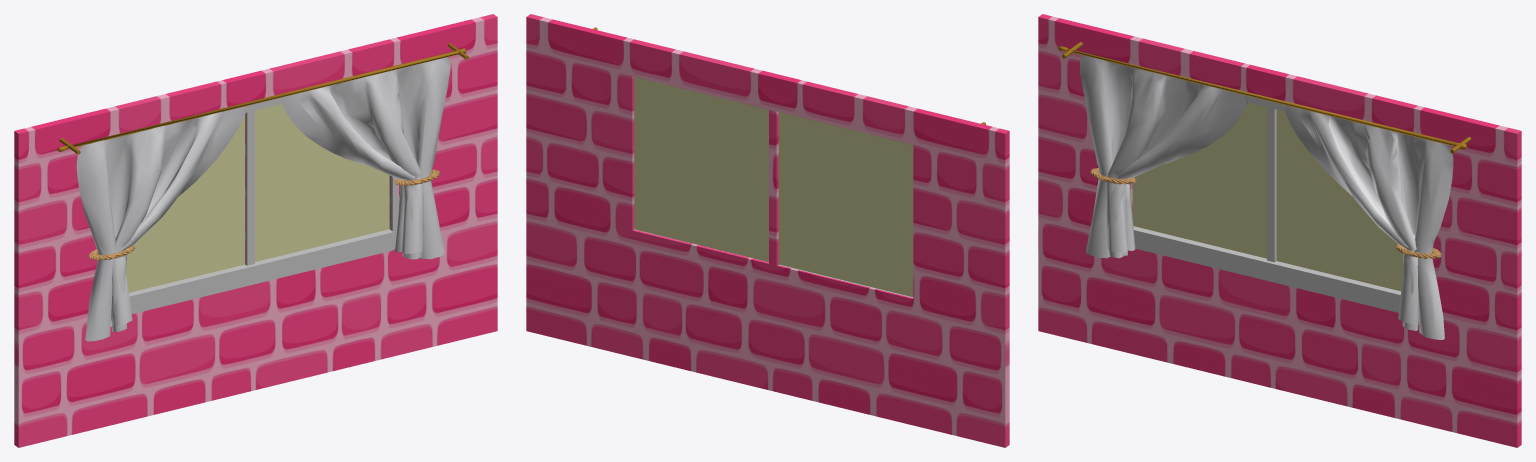
File: PARED VENTANA COLEGIO.fbx
3 renders of one model, left to right at view 1: azimuth 30°, elevation 25°; view 2: azimuth 150°, elevation 25°; view 3: azimuth 330°, elevation 25°, orthographic.
Parts seen in each view (by area): view 1: PARED VENTANA; view 2: PARED VENTANA; view 3: PARED VENTANA.
Boxes of the visible parts, x1,y1,x2,y2 form: PARED VENTANA: [14, 14, 497, 447]; PARED VENTANA: [526, 14, 1009, 447]; PARED VENTANA: [1038, 14, 1521, 447].
Bounding box in the file's own units: 4186 × 2622 × 327.
